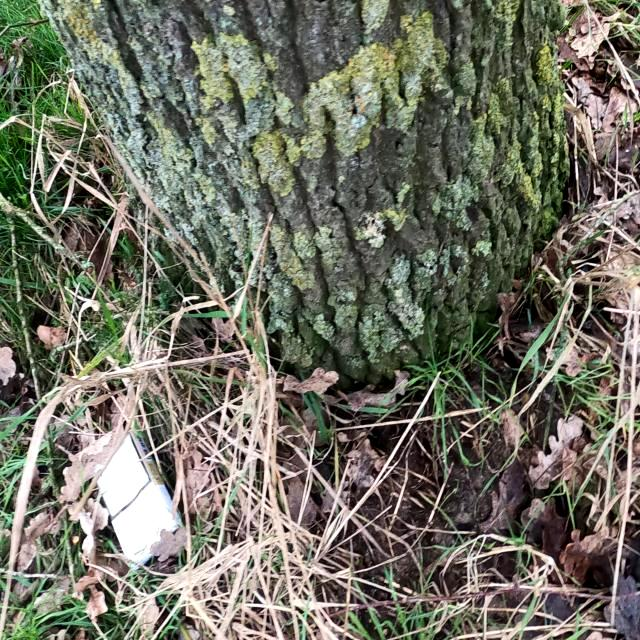Paper: (94, 429, 182, 573)
